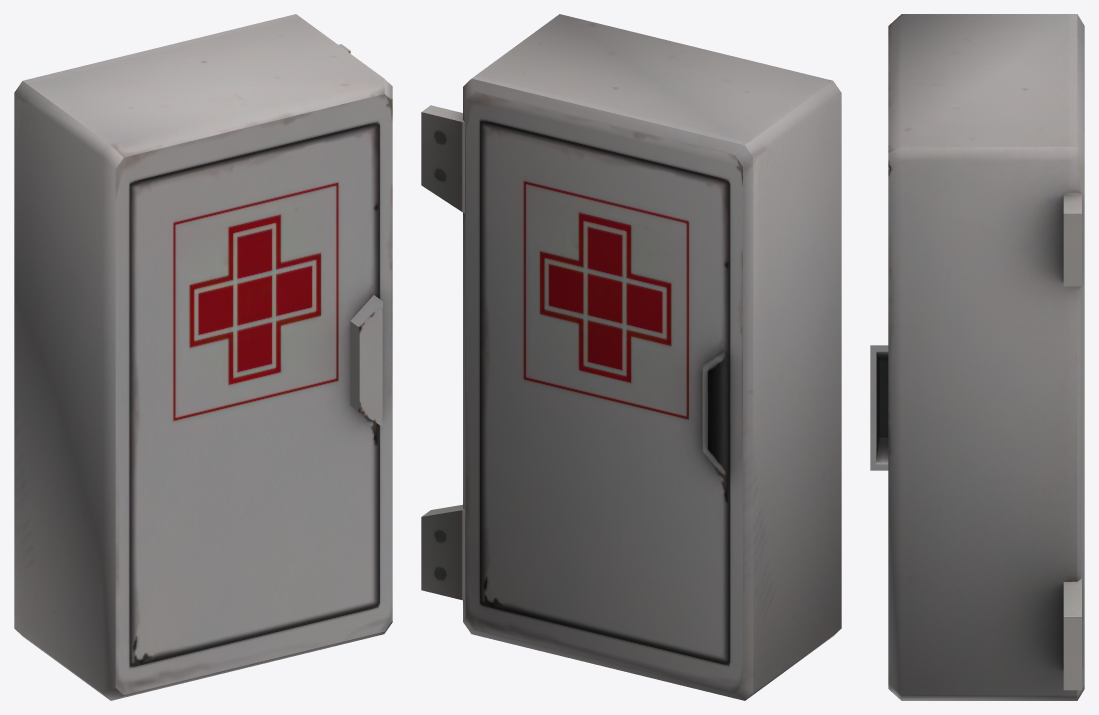
The model's file is MedicalBox.fbx.
3 views of the same model, side by side, from view 1: azimuth 30°, elevation 25°; view 2: azimuth 150°, elevation 25°; view 3: azimuth 270°, elevation 25° (orthographic).
Parts seen in each view (by area): view 1: MedicalBox; view 2: MedicalBox; view 3: MedicalBox.
Part boxes in pixels (x1,y1,x2,y2): MedicalBox: (14,14,392,700); MedicalBox: (421,14,841,700); MedicalBox: (870,14,1084,700).
Size of the model in its own units: 24.83 by 40 by 14.04.
Materials: 1 (1 with a texture image).
